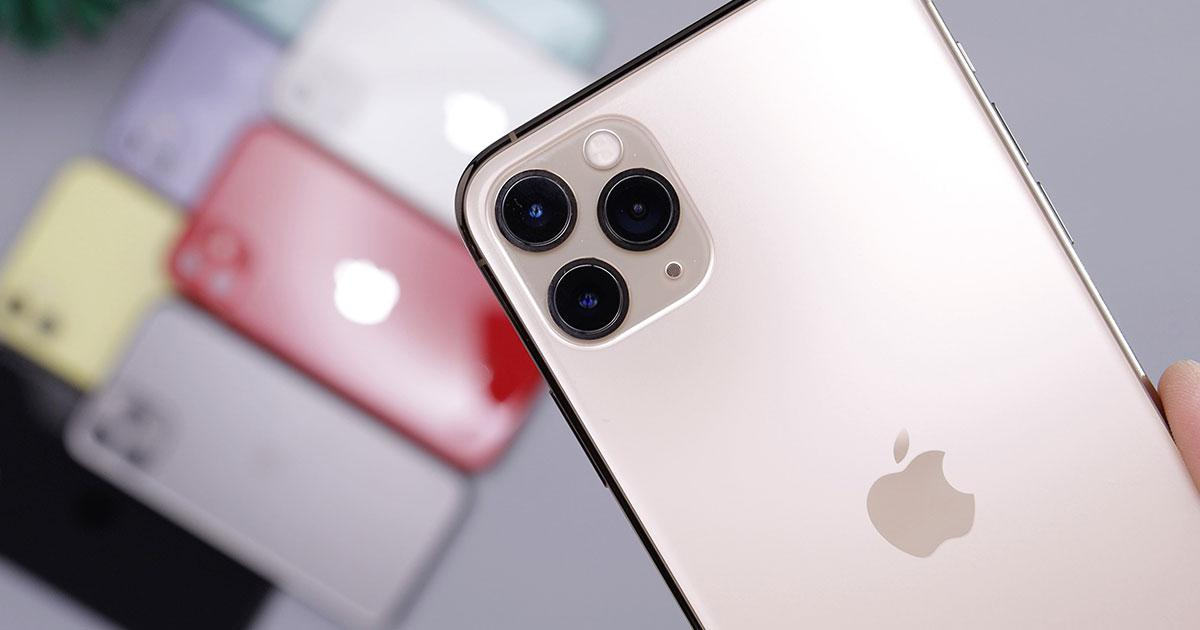Smartphone: (499, 23, 1200, 630), (177, 152, 627, 421), (88, 337, 505, 620), (269, 0, 623, 162), (0, 199, 206, 381), (79, 0, 298, 137)
